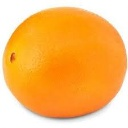orange: (6, 6, 128, 119)
